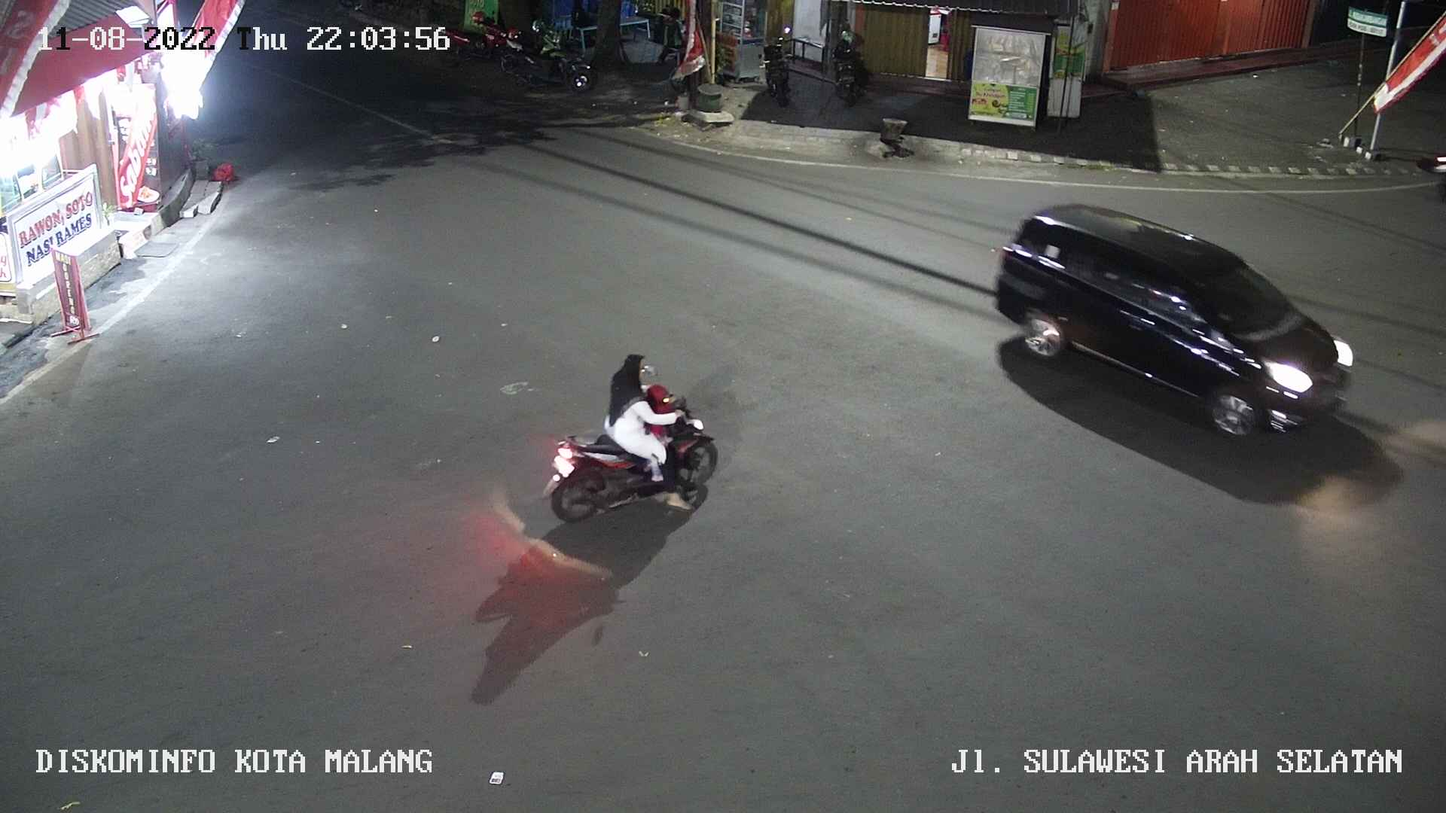without_helmet: (522, 349, 749, 543)
